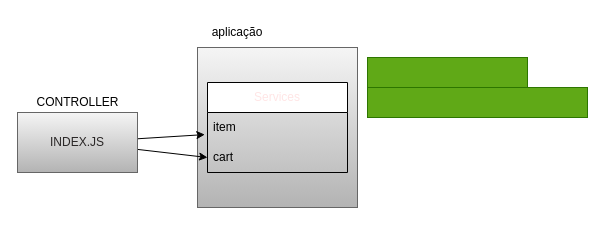
Image size: 605x225. Some labels were removed from this diagram. The shapes that lost their labels are listed below. From the top down, each one's centre as x and y in pixels, then its label:
At [447,72]: "Modularização de código".
At [477,102]: "service guarda as regras de negócio".
